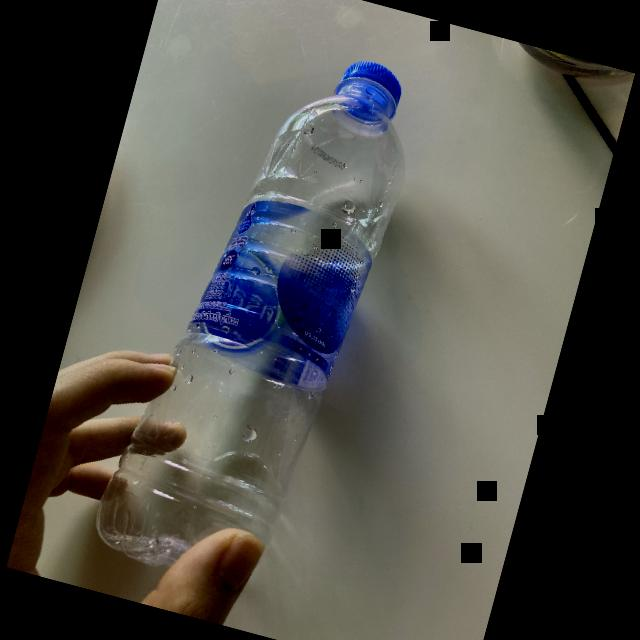plastic_bottle: (79, 18, 438, 624)
plastic_bottle_cap: (326, 51, 408, 136)
